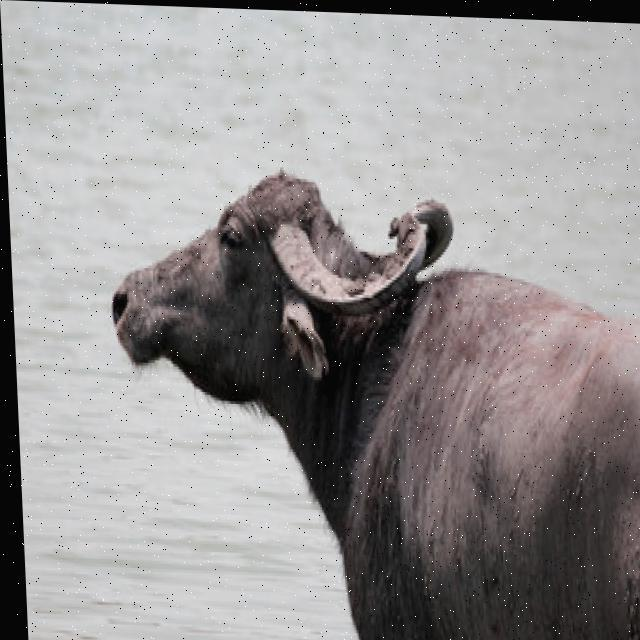Buffalo: (101, 157, 640, 640)
